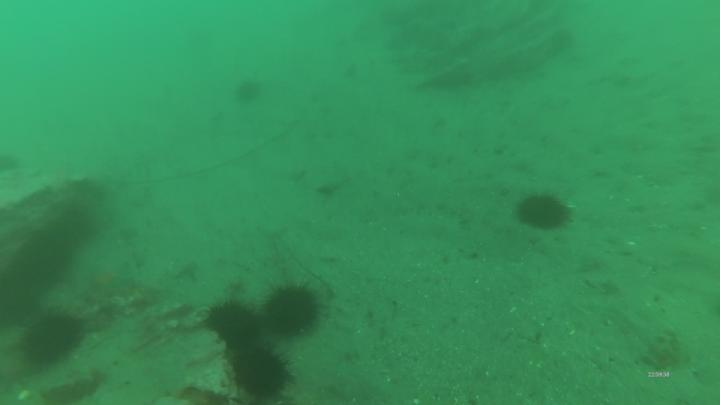echinus: (22, 317, 83, 368), (233, 347, 285, 394), (268, 289, 317, 335), (208, 305, 261, 347), (519, 194, 568, 231)
holothurian: (645, 331, 678, 367)
